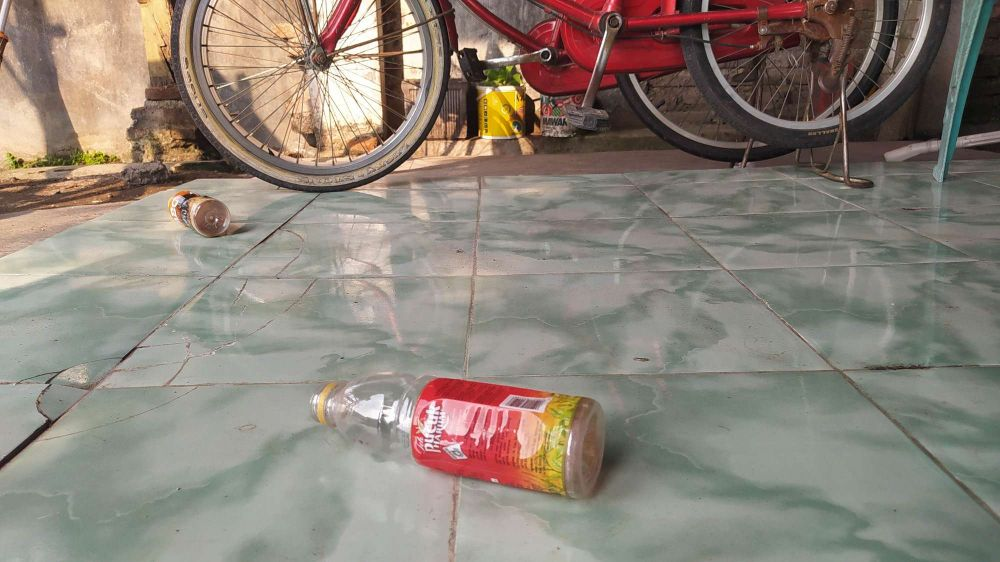botol: (290, 354, 650, 500), (156, 179, 250, 251)
